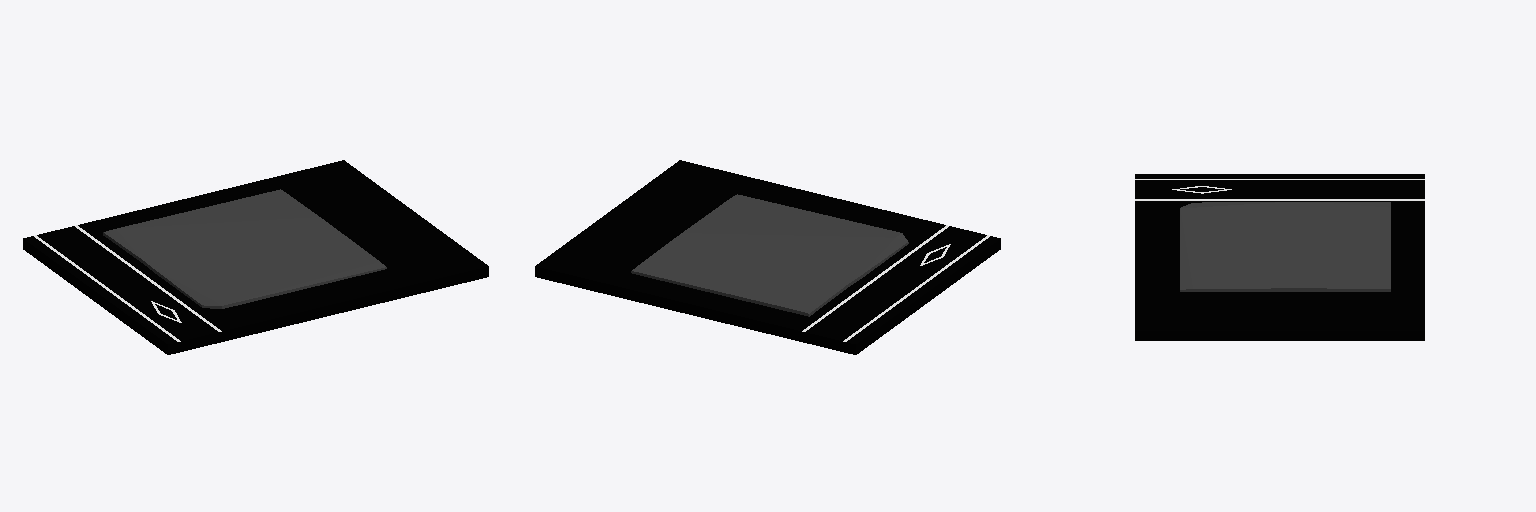
The model's file is road.obj.
3 renders of one model, left to right at view 1: azimuth 30°, elevation 25°; view 2: azimuth 150°, elevation 25°; view 3: azimuth 270°, elevation 25°, orthographic.
Visible parts, largest first — view 1: trottoir_trottoir_Cube.005; view 2: trottoir_trottoir_Cube.005; view 3: trottoir_trottoir_Cube.005.
Part boxes in pixels (left/top/right/bottom): trottoir_trottoir_Cube.005: left=23, top=160, right=488, bottom=354; trottoir_trottoir_Cube.005: left=535, top=160, right=1000, bottom=354; trottoir_trottoir_Cube.005: left=1135, top=174, right=1424, bottom=340.
Bounding box in the file's own units: 2.56 × 0.1078 × 2.